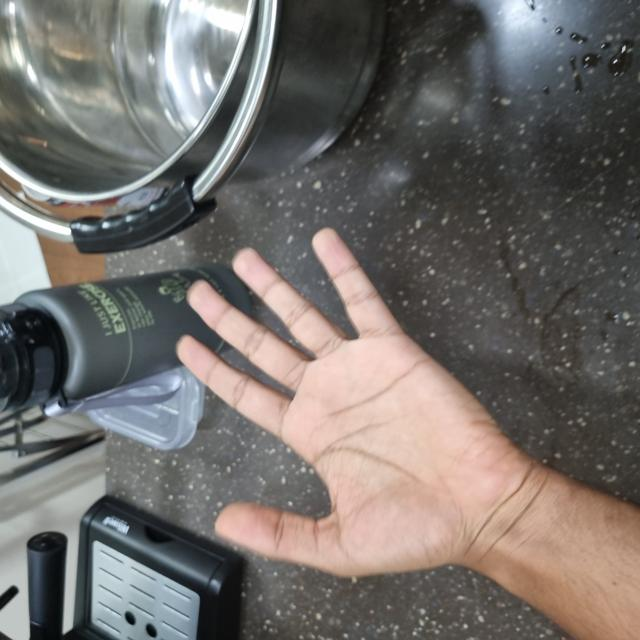Paper: (66, 182, 409, 521)
